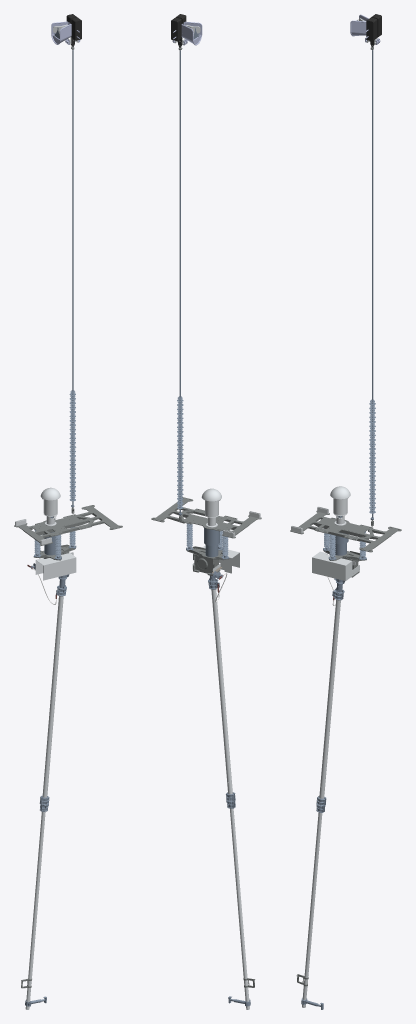
The model's file is ice-switch-main.glb.
3 renders of one model, left to right at view 1: azimuth 30°, elevation 25°; view 2: azimuth 150°, elevation 25°; view 3: azimuth 330°, elevation 25°, orthographic. The views are drawn at different scales.
Visible parts, largest first — view 1: ee0acb45-9d24-4a97-8d44-8806db052ac3_f0394eb4-3016-4156-a5fa, ¶¥²¿¹̶¨°䞇DB-JC27101-A_20160031-28-, µ¼µ繋-´ϽRBK9-10000_2017409-3-, µ¼µ繋-СÁºϽRBK9-10000_2017409-7-, ±£»¤֖Ŧ_JSBHZ-160N_20160027-7-1-, ¶¥²¿¹̶¨°䞇DB-FY001_20160031-4, fanghuzhao; view 2: ee0acb45-9d24-4a97-8d44-8806db052ac3_f0394eb4-3016-4156-a5fa, ¶¥²¿¹̶¨°䞇DB-JC27101-A_20160031-28-, µ¼µ繋-´ϽRBK9-10000_2017409-3-, µ¼µ繋-СÁºϽRBK9-10000_2017409-7-, ÎÏÂÖÎÏ¸Ë¼õËÙÆ÷_RV140-?32-?85-50_20160022-3-, ±£»¤֖Ŧ_JSBHZ-160N_20160027-7-1-, fanghuzhao; view 3: ee0acb45-9d24-4a97-8d44-8806db052ac3_f0394eb4-3016-4156-a5fa, ¶¥²¿¹̶¨°䞇DB-JC27101-A_20160031-28-, µ¼µ繋-´ϽRBK9-10000_2017409-3-, ±£»¤֖Ŧ_JSBHZ-160N_20160027-7-1-, µ¼µ繋-СÁºϽRBK9-10000_2017409-7-, ¶¥²¿¹̶¨°䞇DB-FY001_20160031-4, fanghuzhao.
Boxes of the visible parts, x1,y1,x2,y2 form: ee0acb45-9d24-4a97-8d44-8806db052ac3_f0394eb4-3016-4156-a5fa: [25, 27, 76, 1006]; ¶¥²¿¹̶¨°䞇DB-JC27101-A_20160031-28-: [14, 505, 122, 545]; µ¼µ繋-´ϽRBK9-10000_2017409-3-: [42, 596, 63, 797]; µ¼µ繋-СÁºϽRBK9-10000_2017409-7-: [25, 811, 45, 1009]; ±£»¤֖Ŧ_JSBHZ-160N_20160027-7-1-: [35, 552, 76, 580]; ¶¥²¿¹̶¨°䞇DB-FY001_20160031-4: [35, 514, 93, 537]; fanghuzhao: [51, 21, 71, 44]; ee0acb45-9d24-4a97-8d44-8806db052ac3_f0394eb4-3016-4156-a5fa: [177, 28, 250, 1006]; ¶¥²¿¹̶¨°䞇DB-JC27101-A_20160031-28-: [151, 497, 261, 538]; µ¼µ繋-´ϽRBK9-10000_2017409-3-: [211, 589, 232, 794]; µ¼µ繋-СÁºϽRBK9-10000_2017409-7-: [230, 808, 249, 1009]; ÎÏÂÖÎÏ¸Ë¼õËÙÆ÷_RV140-?32-?85-50_20160022-3-: [193, 551, 220, 575]; ±£»¤֖Ŧ_JSBHZ-160N_20160027-7-1-: [192, 545, 239, 573]; fanghuzhao: [181, 21, 202, 45]; ee0acb45-9d24-4a97-8d44-8806db052ac3_f0394eb4-3016-4156-a5fa: [301, 20, 375, 1009]; ¶¥²¿¹̶¨°䞇DB-JC27101-A_20160031-28-: [290, 511, 401, 552]; µ¼µ繋-´ϽRBK9-10000_2017409-3-: [319, 600, 340, 798]; ±£»¤֖Ŧ_JSBHZ-160N_20160027-7-1-: [312, 551, 359, 580]; µ¼µ繋-СÁºϽRBK9-10000_2017409-7-: [302, 812, 322, 1007]; ¶¥²¿¹̶¨°䞇DB-FY001_20160031-4: [314, 517, 373, 541]; fanghuzhao: [350, 14, 368, 36].
Bounding box in the file's own units: 2003 × 21178 × 1285.
